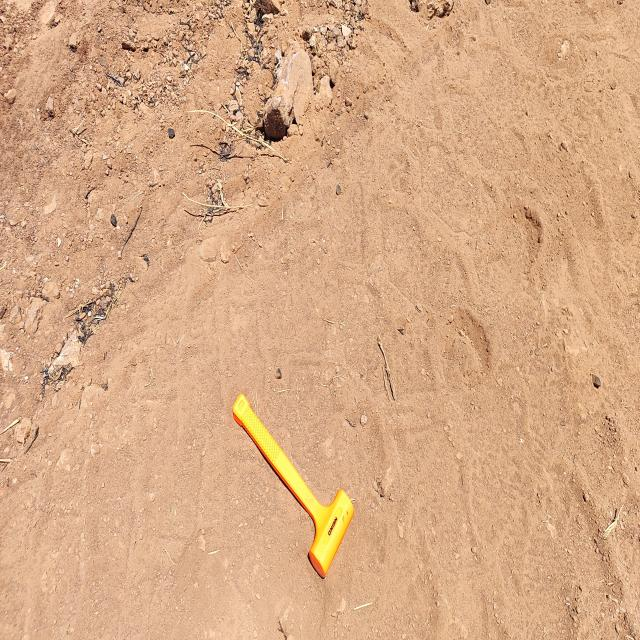Orange_hammer: (232, 392, 354, 579)
rock: (260, 44, 318, 131)
